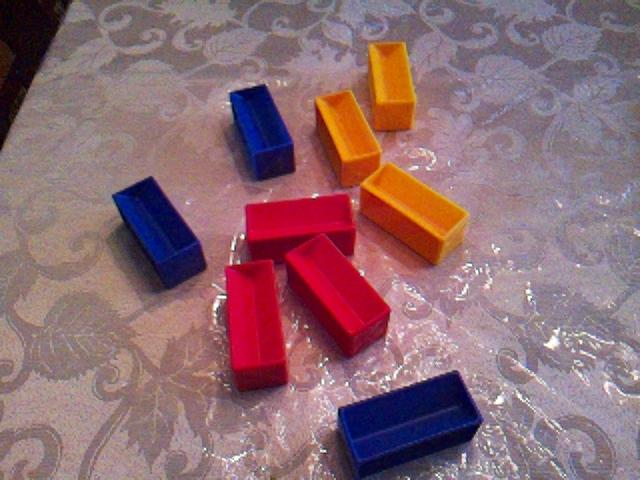blue: (338, 370, 486, 480), (113, 176, 209, 291), (230, 83, 297, 183)
red: (285, 232, 393, 359), (226, 258, 290, 394), (245, 193, 358, 266)
yellow: (360, 162, 471, 268), (315, 89, 384, 190), (368, 41, 419, 132)
